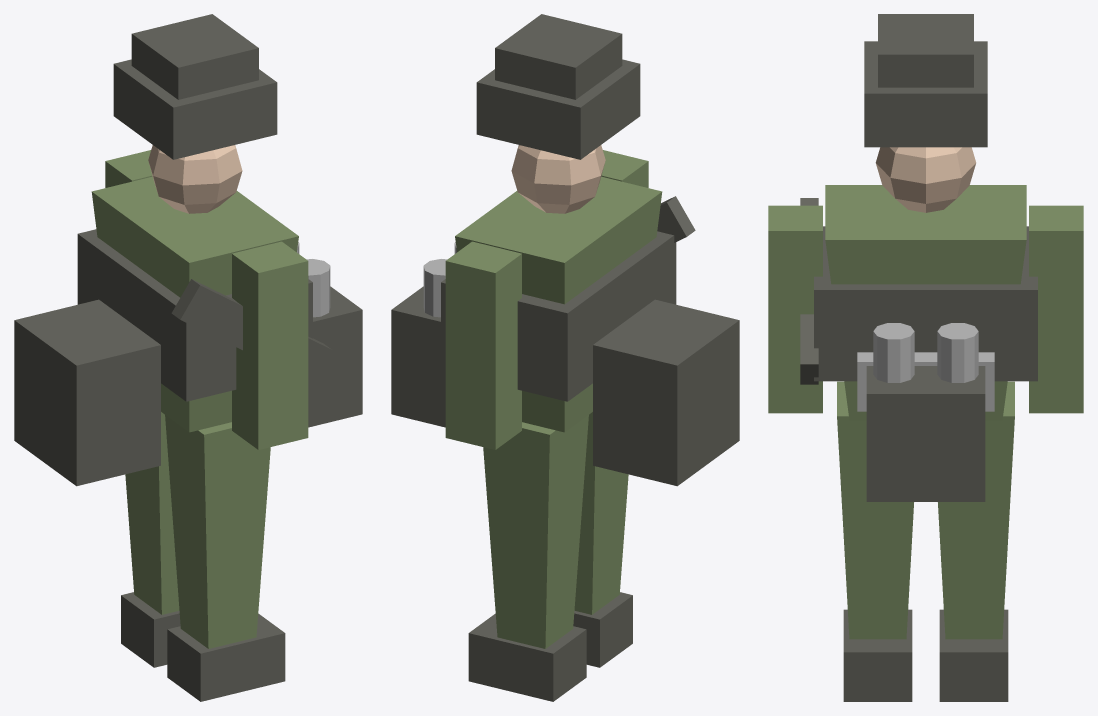
The model's file is unit_grenadier.glb.
3 views of the same model, side by side, from view 1: azimuth 30°, elevation 25°; view 2: azimuth 150°, elevation 25°; view 3: azimuth 270°, elevation 25° (orthographic). The views are drawn at different scales.
Visible parts, largest first — view 1: accent_upper_Grenadier, Grenadier, upper_Grenadier, accent_Grenadier, skin_upper_Grenadier, trim_upper_Grenadier; view 2: accent_upper_Grenadier, Grenadier, upper_Grenadier, accent_Grenadier, skin_upper_Grenadier, trim_upper_Grenadier; view 3: accent_upper_Grenadier, Grenadier, upper_Grenadier, accent_Grenadier, trim_upper_Grenadier, skin_upper_Grenadier.
Boxes of the visible parts, left/top/right/bottom form: accent_upper_Grenadier: left=14, top=14, right=362, bottom=486; Grenadier: left=91, top=176, right=298, bottom=648; upper_Grenadier: left=105, top=150, right=308, bottom=449; accent_Grenadier: left=121, top=592, right=285, bottom=701; skin_upper_Grenadier: left=148, top=145, right=242, bottom=213; trim_upper_Grenadier: left=297, top=242, right=330, bottom=317; accent_upper_Grenadier: left=391, top=14, right=739, bottom=486; Grenadier: left=455, top=176, right=662, bottom=648; upper_Grenadier: left=445, top=150, right=648, bottom=449; accent_Grenadier: left=468, top=592, right=632, bottom=701; skin_upper_Grenadier: left=511, top=145, right=605, bottom=213; trim_upper_Grenadier: left=423, top=242, right=456, bottom=317; accent_upper_Grenadier: left=800, top=14, right=1037, bottom=501; Grenadier: left=825, top=185, right=1026, bottom=639; upper_Grenadier: left=768, top=205, right=1083, bottom=413; accent_Grenadier: left=843, top=609, right=1008, bottom=701; trim_upper_Grenadier: left=857, top=323, right=994, bottom=411; skin_upper_Grenadier: left=875, top=147, right=976, bottom=212.
Bounding box in the file's own units: 0.75 × 1.55 × 0.69.
